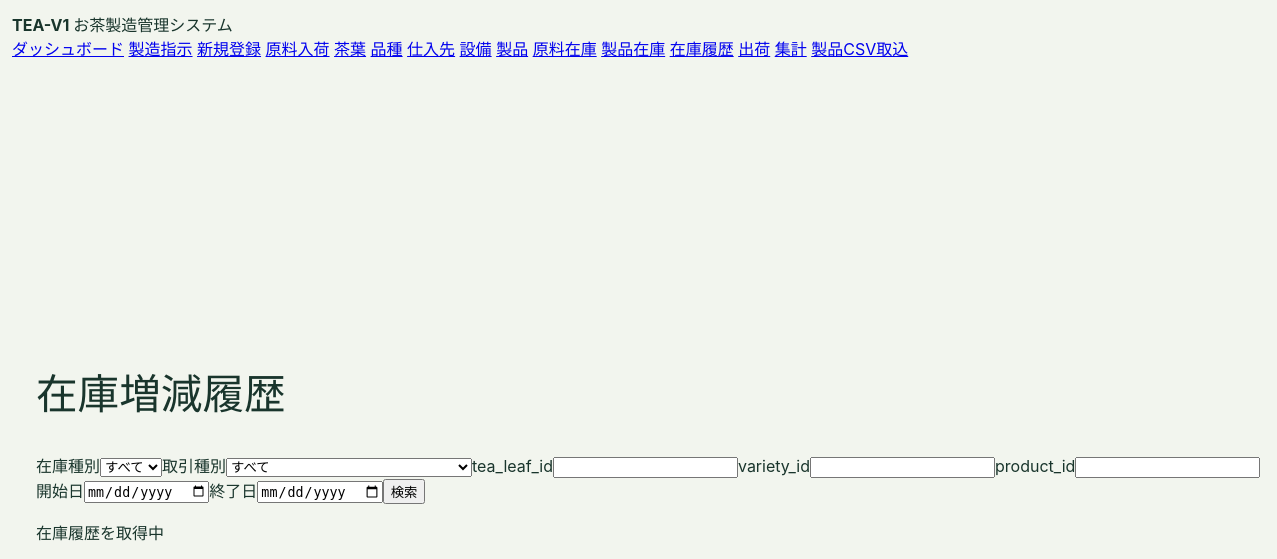
Test case: 在庫履歴の検索条件をURL経由でAPIへ渡す
The image size is (1277, 559).
Select "製品" in the dropdown labelled "在庫種別" at (131, 467), box [100,458,162,476]
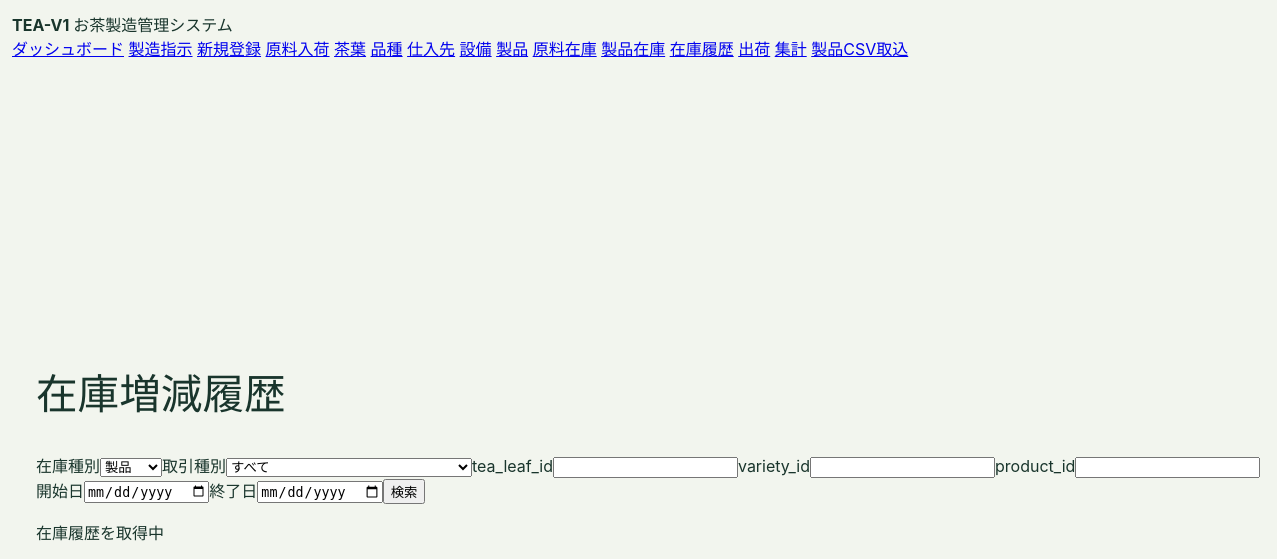
Select "SHIPMENT" in the dropdown labelled "取引種別" at (349, 467), box [226,458,472,476]
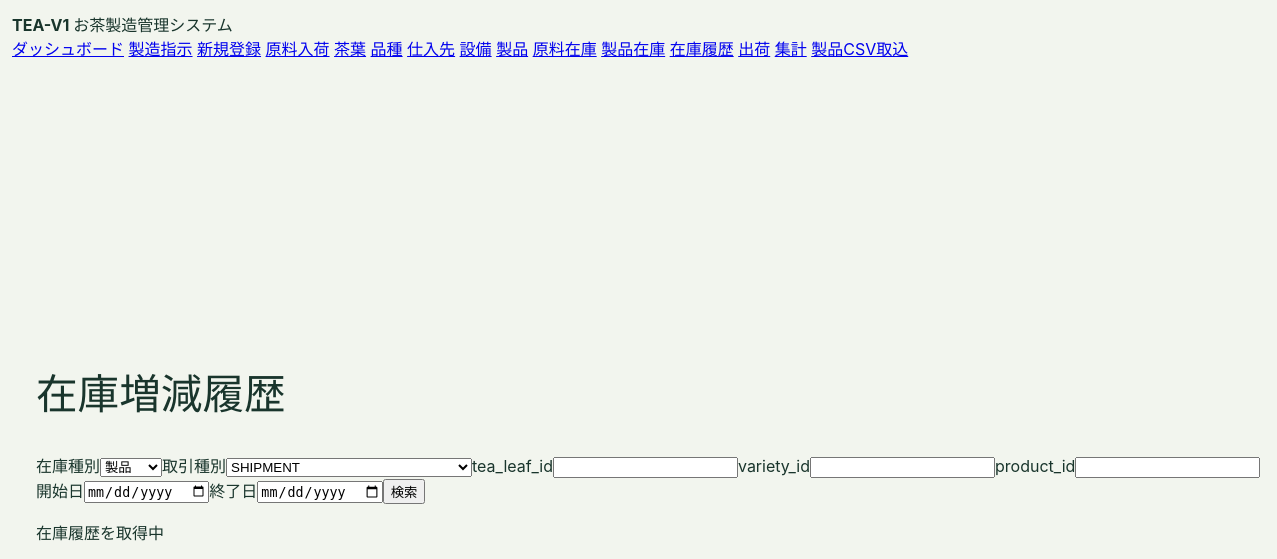
Type "10" into the number field labelled "product_id" at (1168, 467), box [1075,456,1260,478]
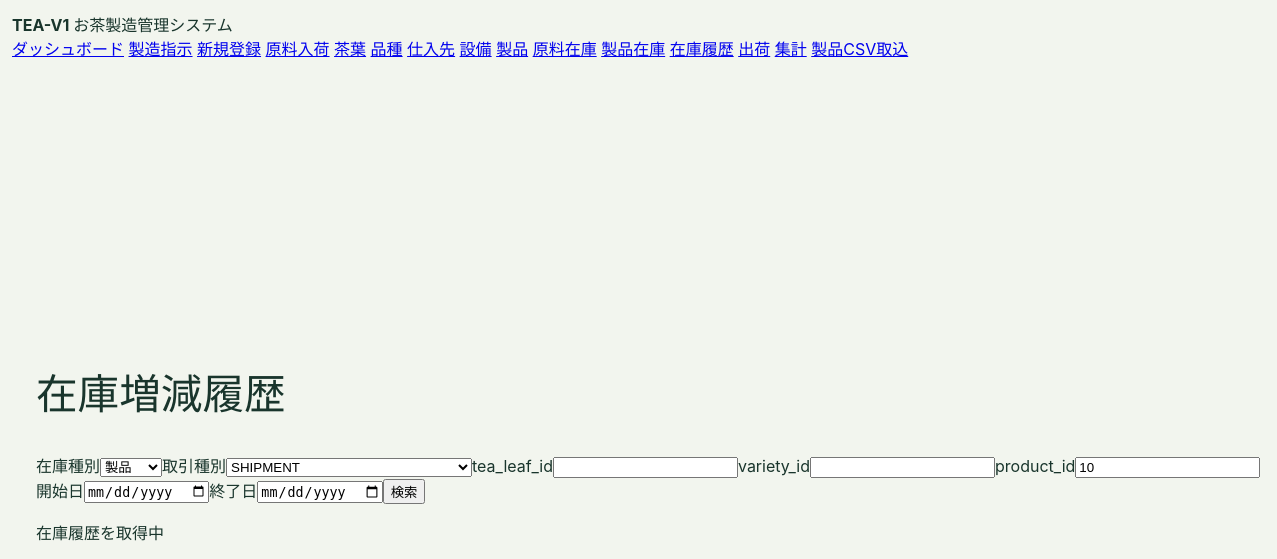
Type "2026-08-01" into the date field labelled "開始日" at (147, 492), box [84,481,209,503]
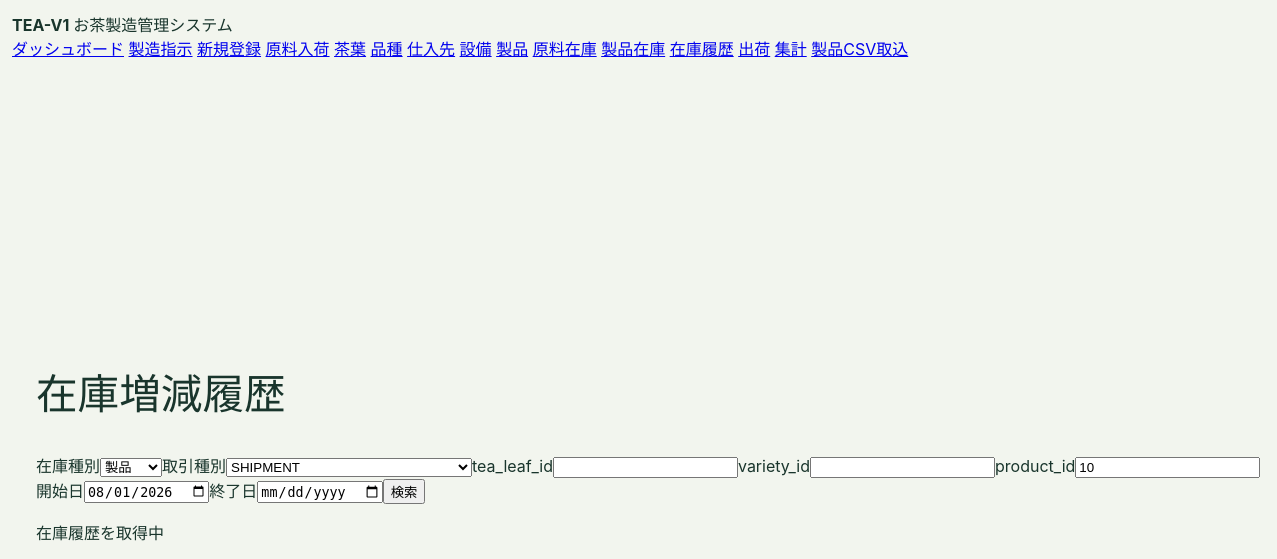
Type "2026-08-12" into the date field labelled "終了日" at (320, 492), box [257,481,383,503]
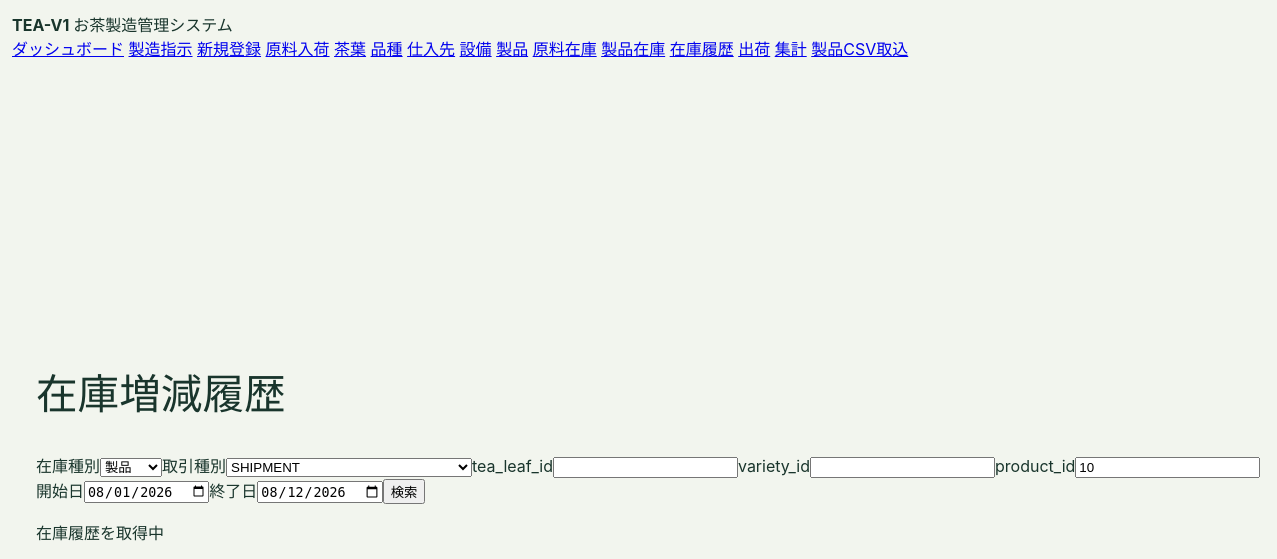
Click the button "検索" at (404, 491), box [383,478,425,504]
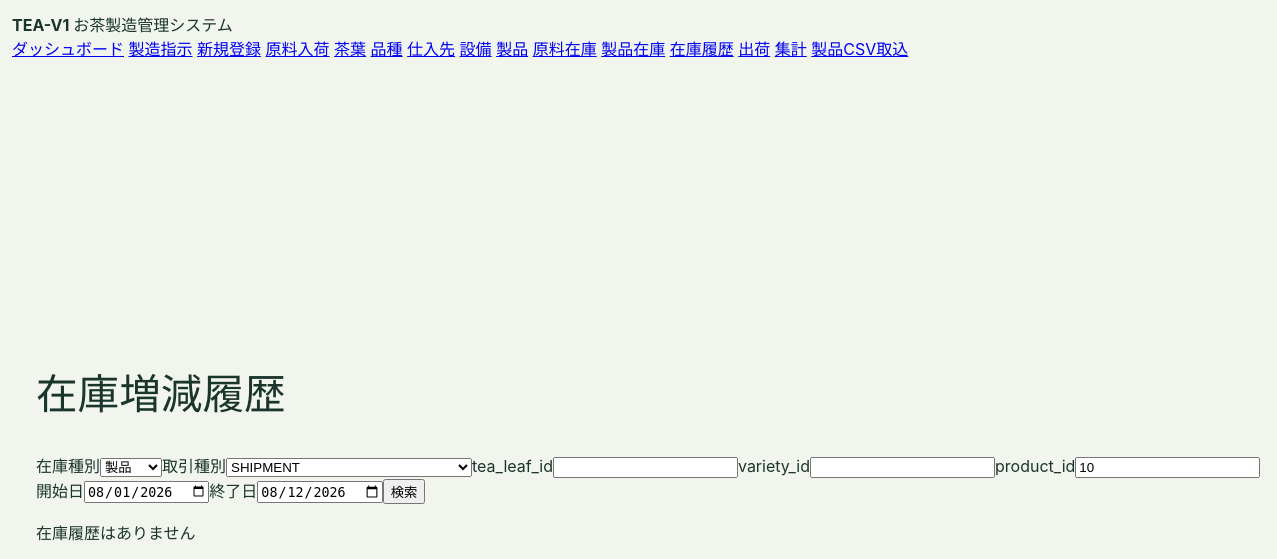
Expected: the text "在庫履歴はありません" is shown, [36,522,196,542]
